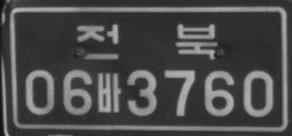0: (242, 69, 274, 117), (24, 68, 54, 116)
3: (126, 68, 158, 117)
6: (203, 69, 235, 117), (62, 68, 93, 116)
7: (163, 69, 196, 117)
바: (96, 72, 122, 112)
전북_D: (76, 23, 217, 60)
